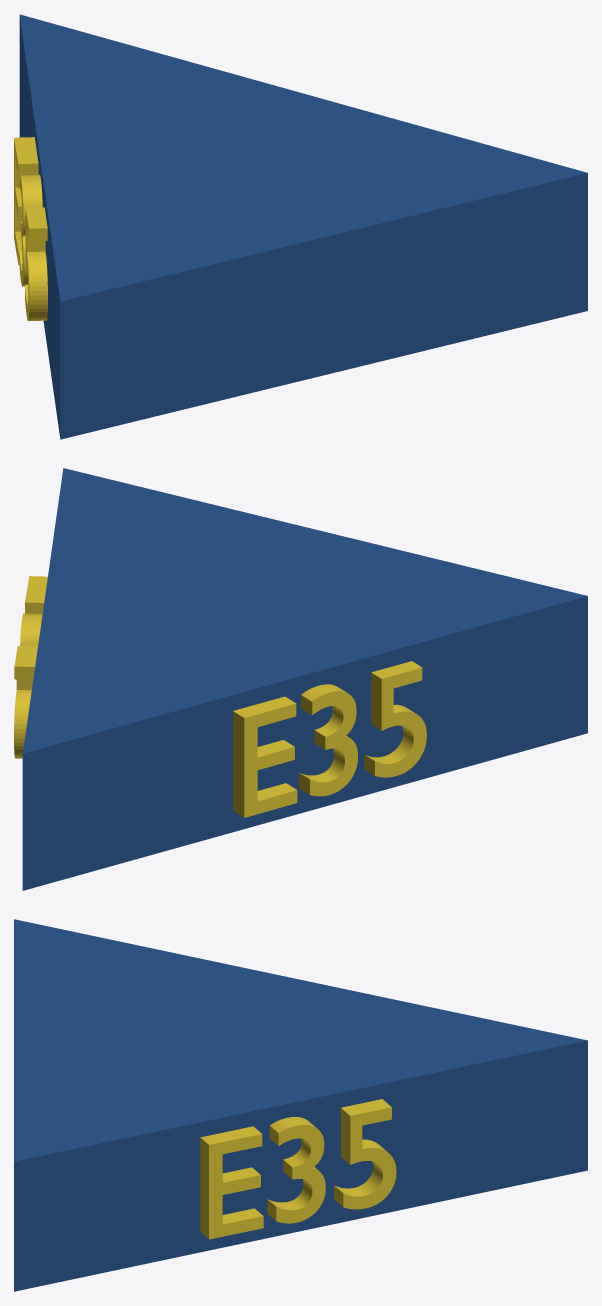
3 views of the same model, one above another, from view 1: azimuth 30°, elevation 25°; view 2: azimuth 150°, elevation 25°; view 3: azimuth 270°, elevation 25° (orthographic). The views are drawn at different scales.
Visible parts, largest first — view 1: Cube, Text.001; view 2: Cube, Text.001, Text; view 3: Cube, Text.
Part boxes in pixels (box(x1,y1,x2,y2)): Cube: box(19, 14, 587, 439); Text.001: box(14, 137, 47, 321); Cube: box(22, 468, 587, 890); Text.001: box(233, 661, 426, 817); Text: box(14, 576, 47, 758); Cube: box(14, 919, 587, 1291); Text: box(200, 1099, 396, 1239).
Bounding box in the file's own units: 63.36 × 15.84 × 63.36.
